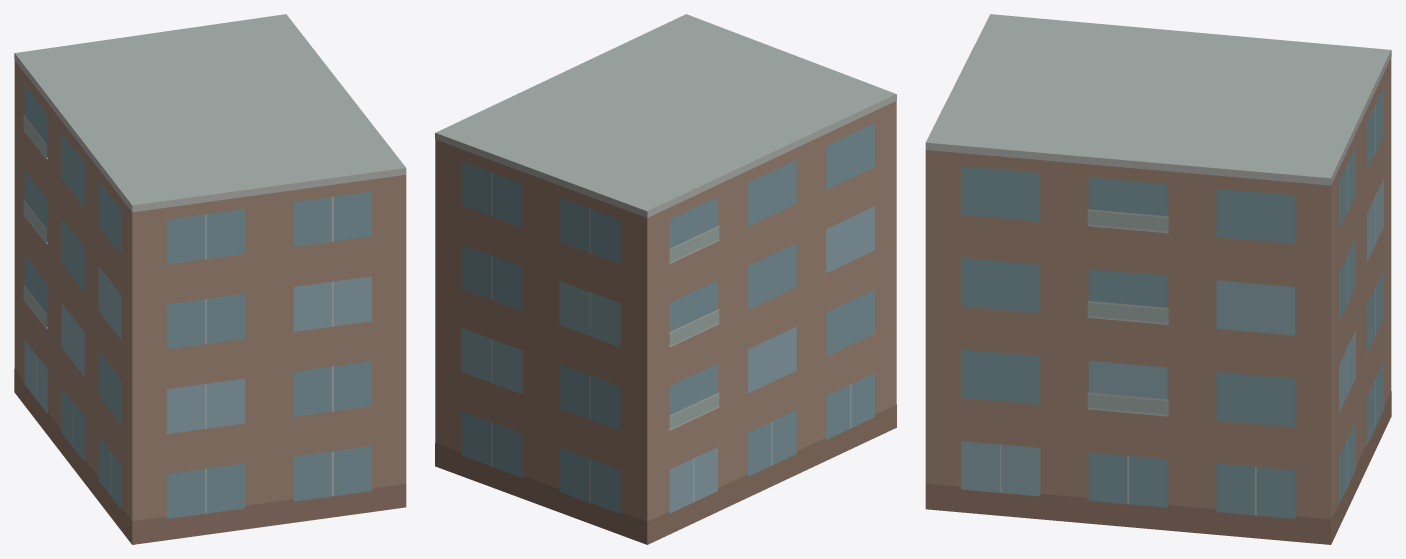
Rendered from survey-upis-32701760.glb.
3 views of the same model, side by side, from view 1: azimuth 30°, elevation 25°; view 2: azimuth 150°, elevation 25°; view 3: azimuth 270°, elevation 25° (orthographic). The views are drawn at different scales.
Parts seen in each view (by area): view 1: survey-upis-32701760.tmp; view 2: survey-upis-32701760.tmp; view 3: survey-upis-32701760.tmp.
Boxes of the visible parts, x1=… form: survey-upis-32701760.tmp: x1=14, y1=14, x2=406, y2=544; survey-upis-32701760.tmp: x1=435, y1=14, x2=896, y2=544; survey-upis-32701760.tmp: x1=925, y1=14, x2=1391, y2=544.
Bounding box in the file's own units: 11.74 × 12.2 × 14.06.
